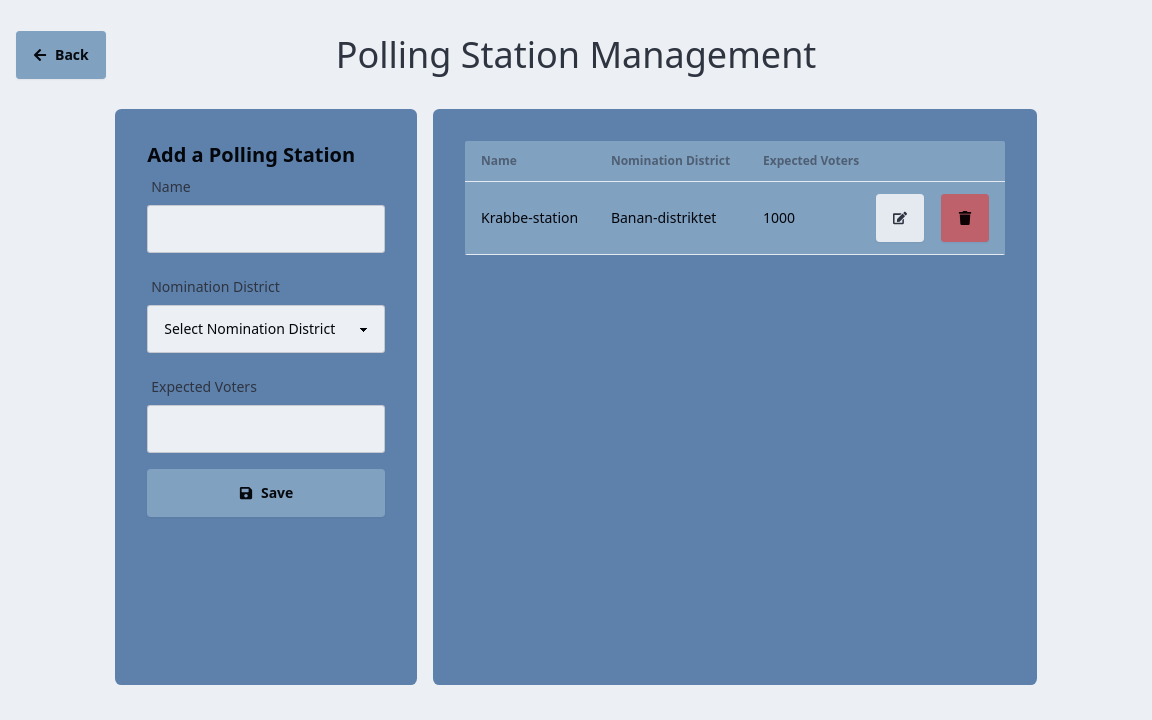
Scenario: PollingStationScreen › should delete an object from the list with a single element
What coordinates should you click on to do the following:
click the button with class "btn-error"
I would click on:
 (965, 218)
Its box is [941,194,989,242].
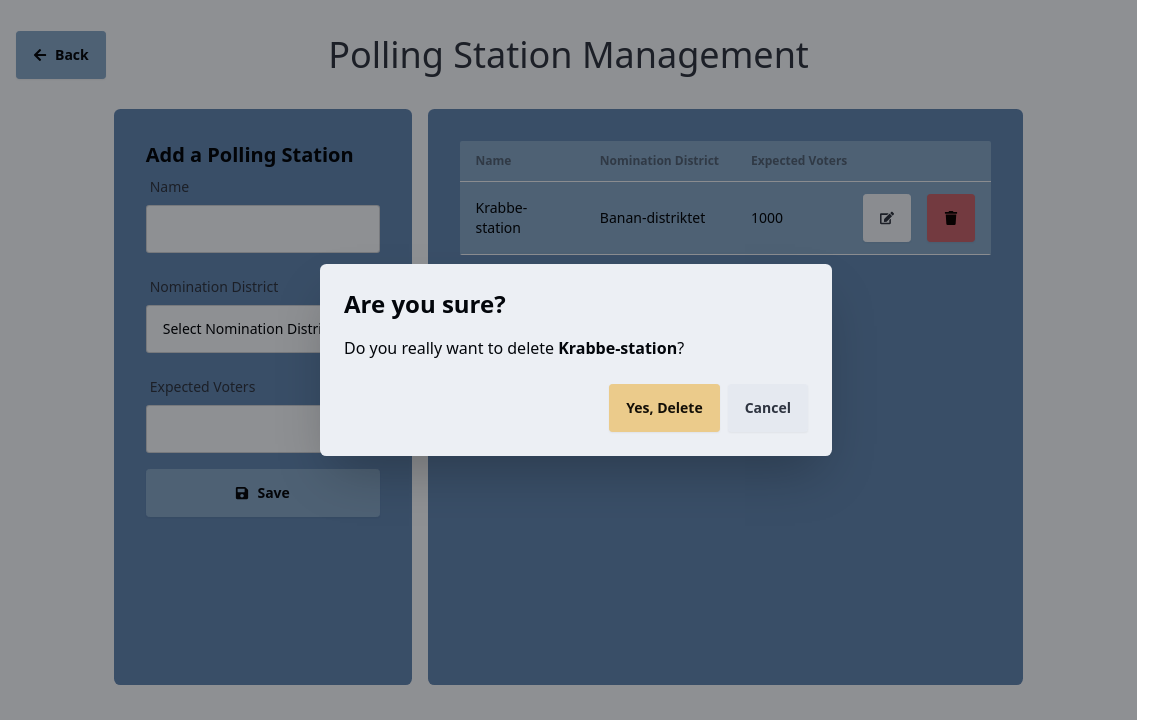
Expected: the element with class "modal-open" is shown
Expected: the heading with class "modal-box" reads "Are you sure?", [344,287,506,320]
Expected: the element with class "modal-box" reads "Do you really want to delete Krabbe-station?", [344,337,684,359]
What coordinates should you click on to do the following:
click the button with class "btn-warning"
I would click on:
 (664, 408)
Its box is [609,384,719,432].
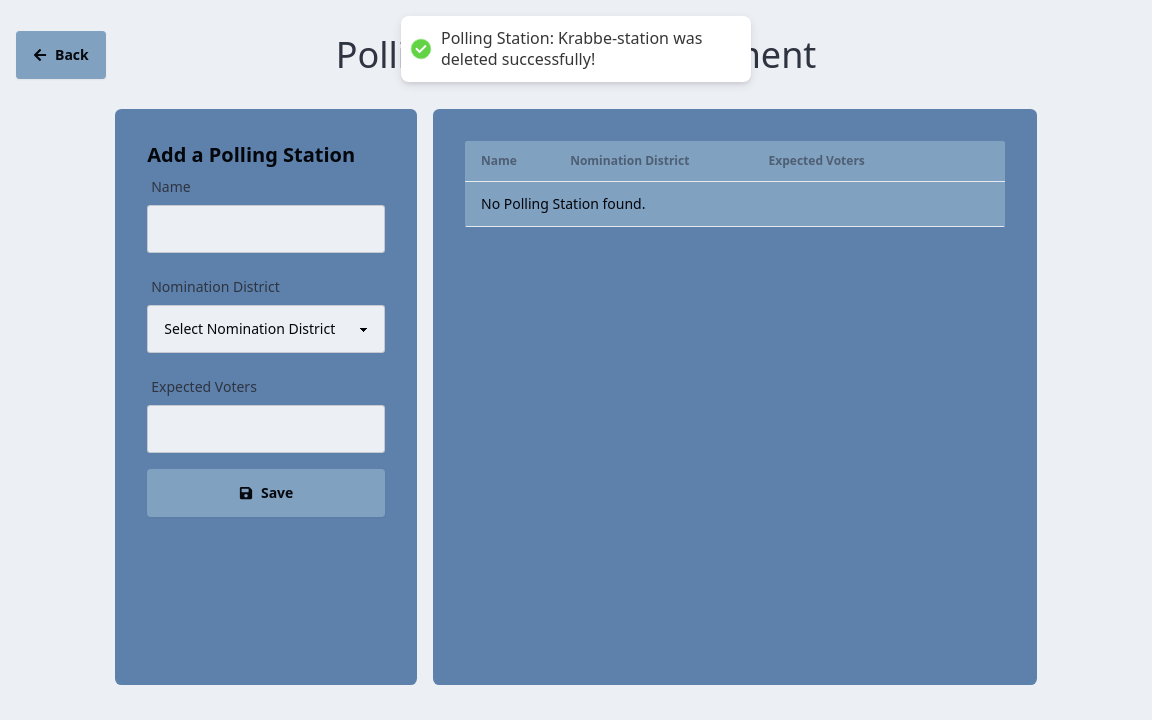
Expected: the text "Polling Station: Krabbe-station was deleted successfully!" is shown, [441,28,731,70]
Expected: the cell "No Polling Station found." is shown, [465,182,1005,227]
